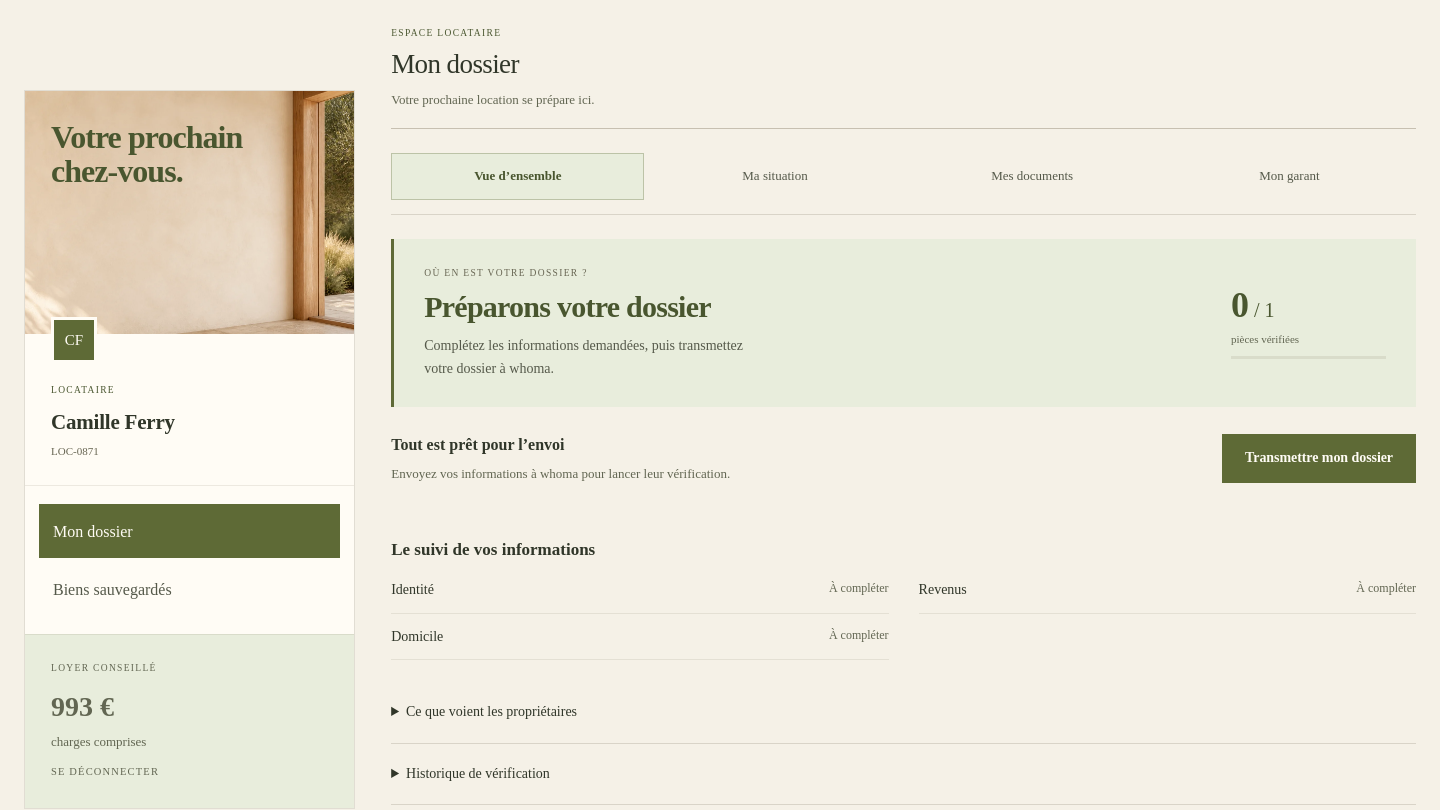
Test: Dossier locataire par rubriques › ne transforme pas un revenu négatif en montant positif
Click the button "Ma situation": (775, 176) [648,153,902,200]
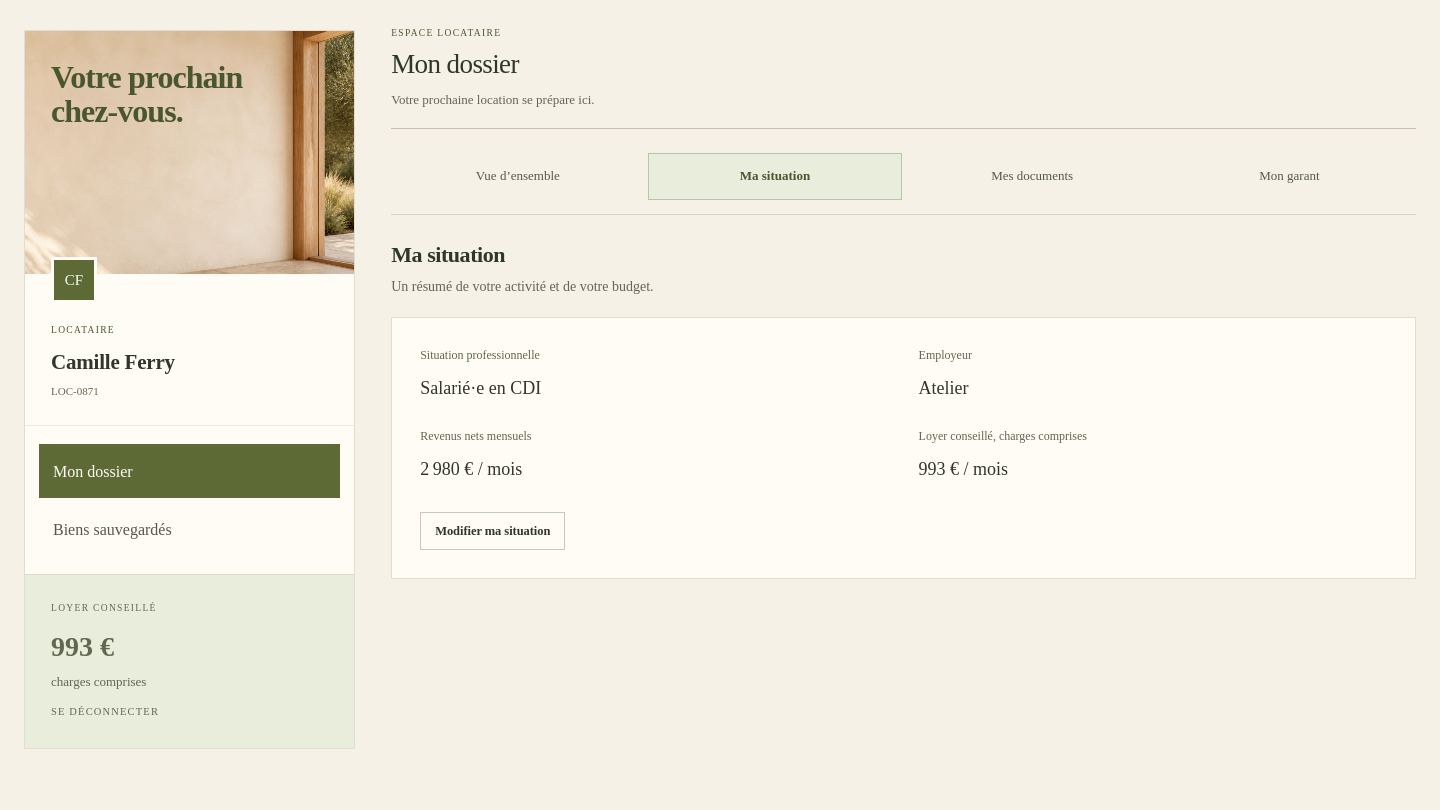
Click the button "Modifier ma situation": (493, 531) [420,512,565,550]
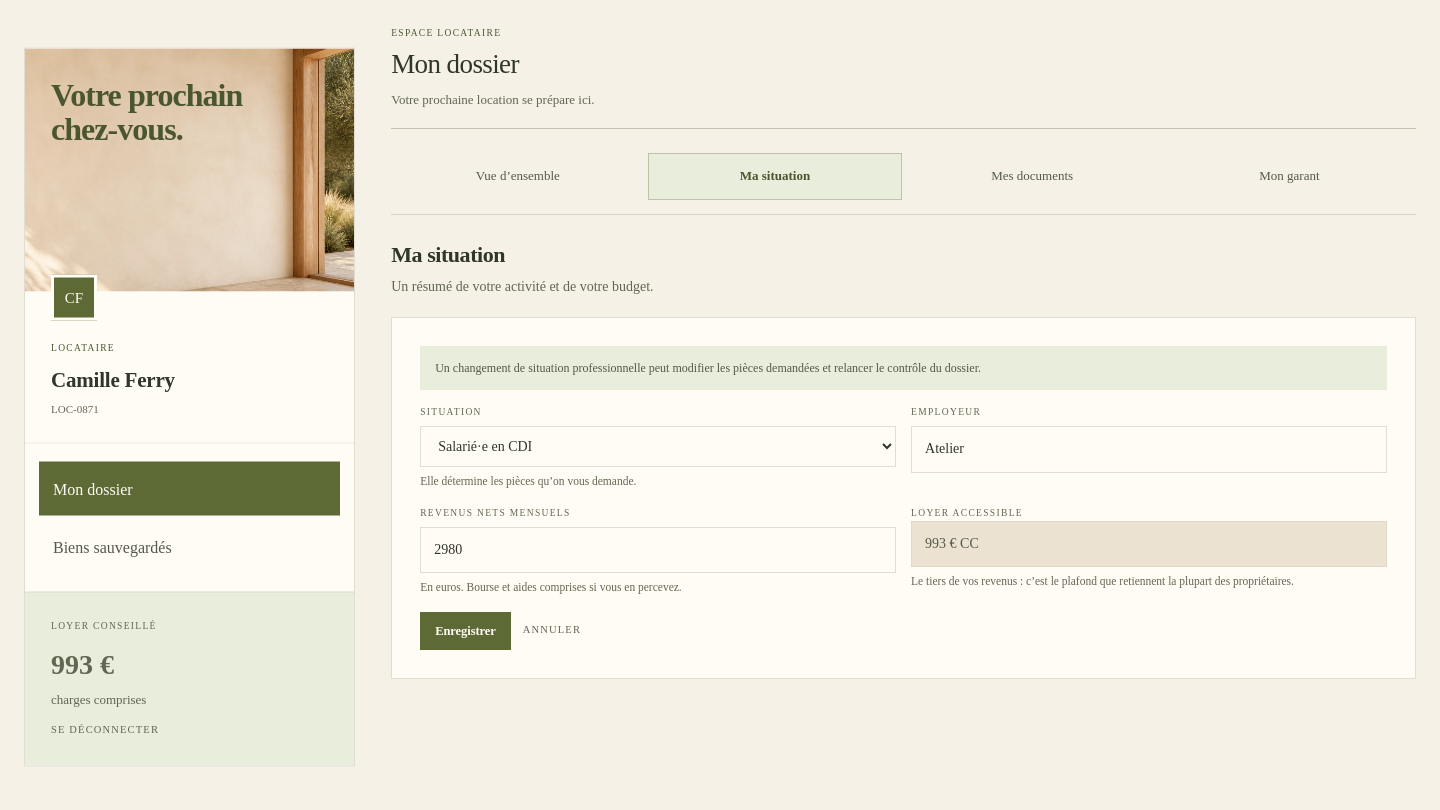
Replace the text in the field labelled "Revenus nets mensuels" with "-2500": (658, 550) [420,527,896,573]
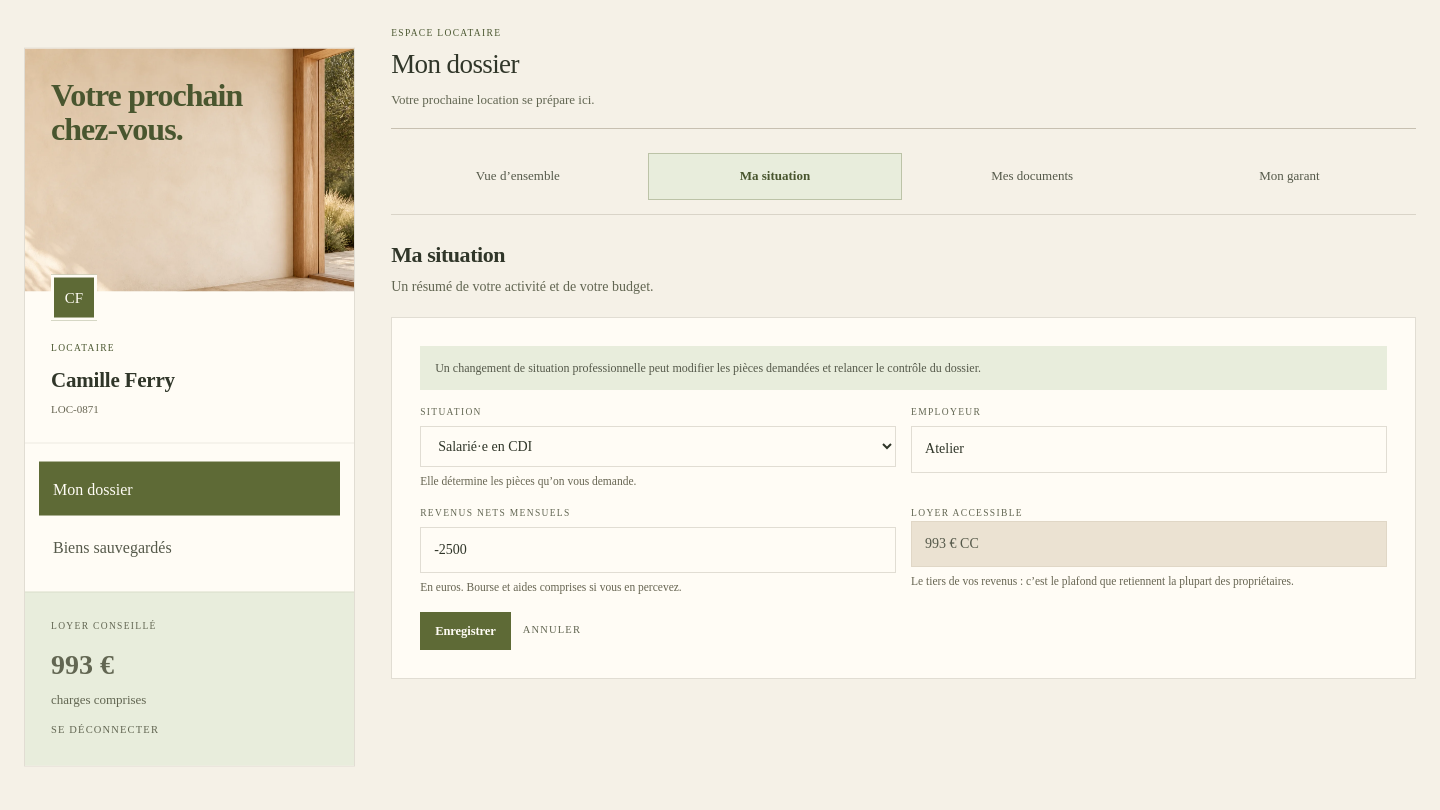
Click the button "Enregistrer": (466, 631) [420,612,511,650]
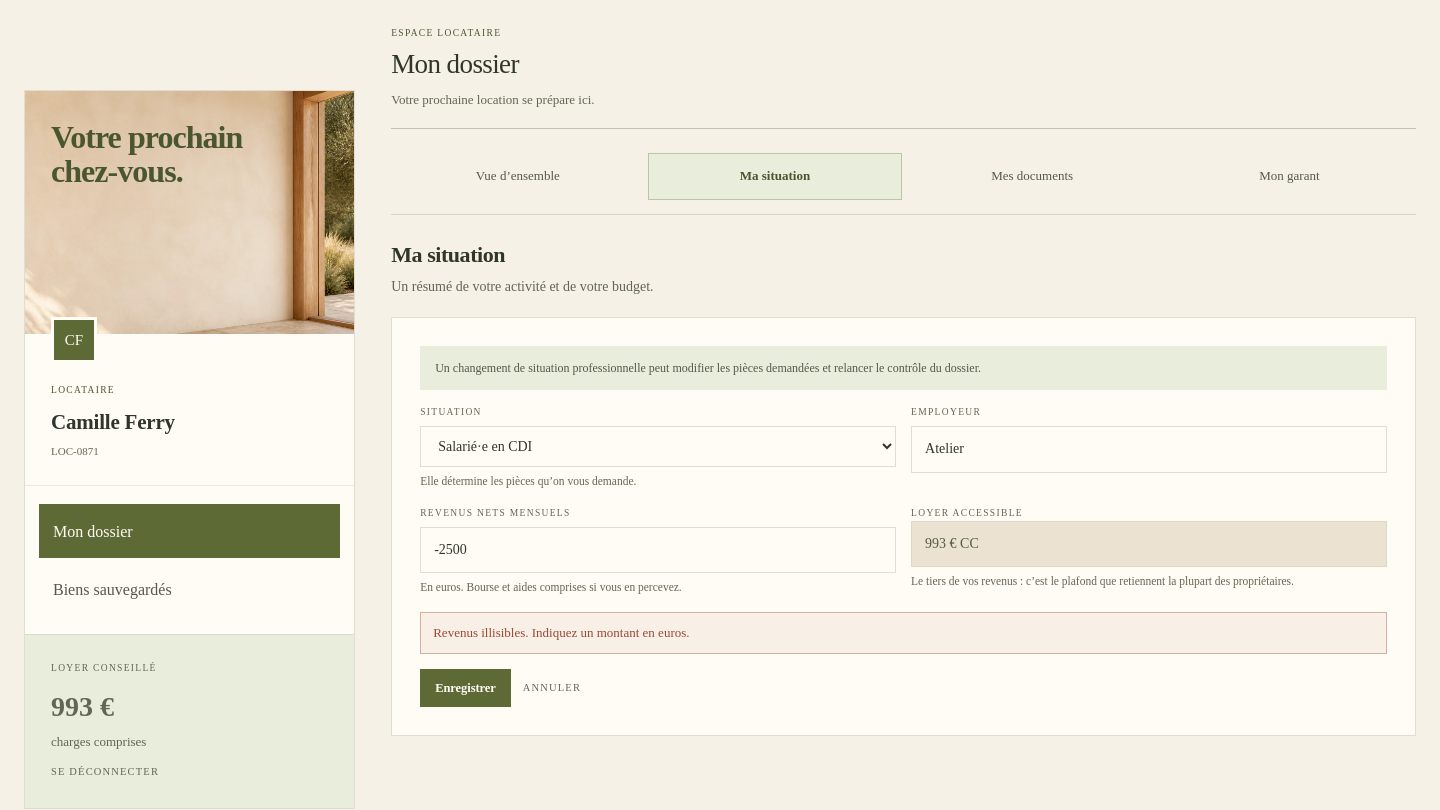
Check: the message shows "Revenus illisibles", box [433,625,690,640]
